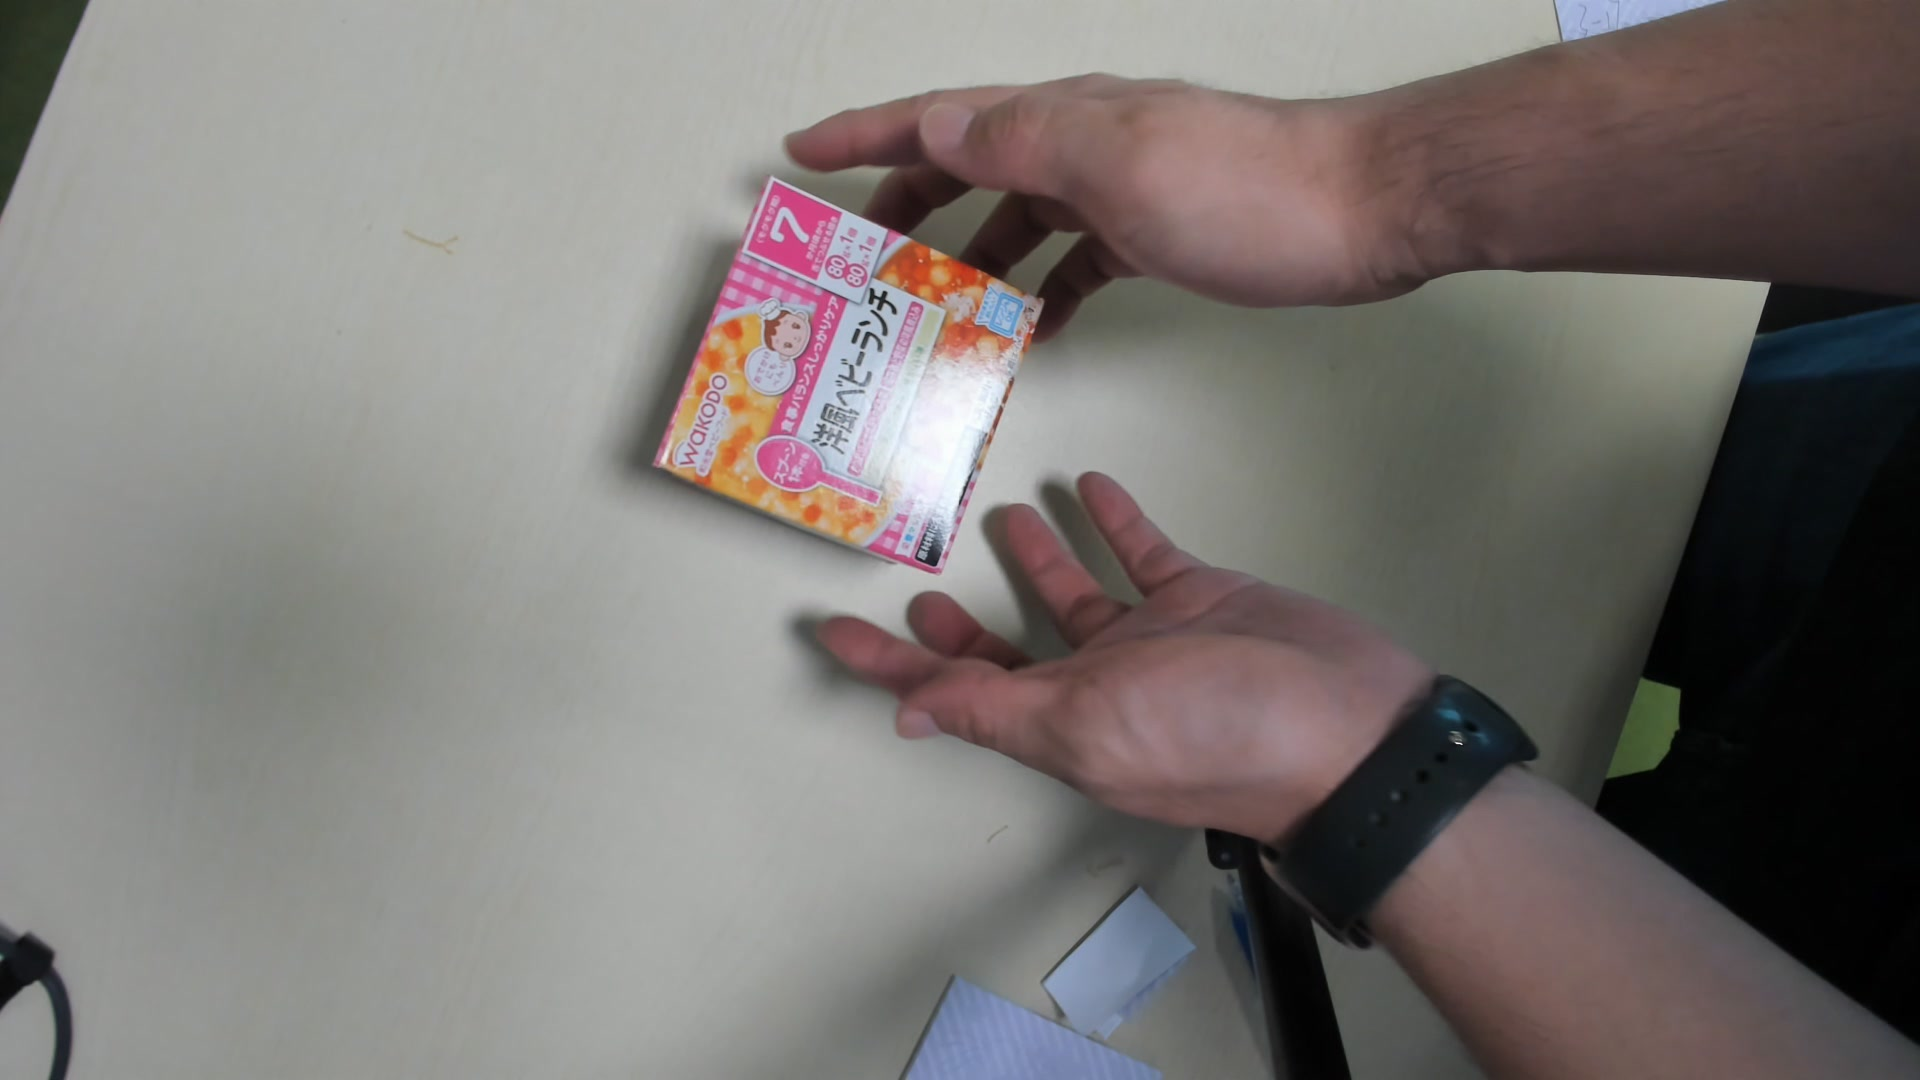InstantMeals_0-99g_NonHalal_NonHealthy: (650, 178, 1056, 582)
